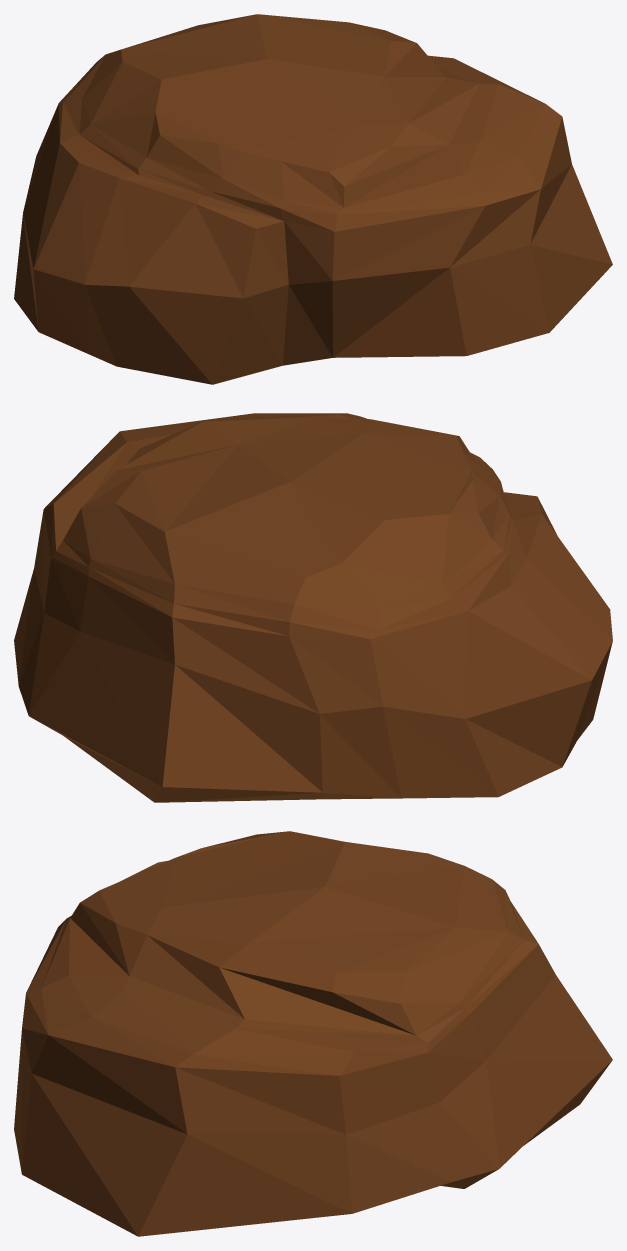
The model's file is space-rock.glb.
3 views of the same model, one above another, from view 1: azimuth 30°, elevation 25°; view 2: azimuth 150°, elevation 25°; view 3: azimuth 270°, elevation 25° (orthographic). The views are drawn at different scales.
Parts seen in each view (by area): view 1: Rock_Large_1; view 2: Rock_Large_1; view 3: Rock_Large_1.
Part boxes in pixels (<box>): Rock_Large_1: <box>14,14,612,384</box>; Rock_Large_1: <box>14,413,612,802</box>; Rock_Large_1: <box>14,831,612,1236</box>.
Size of the model in its own units: 7.67 by 3.29 by 7.33.
